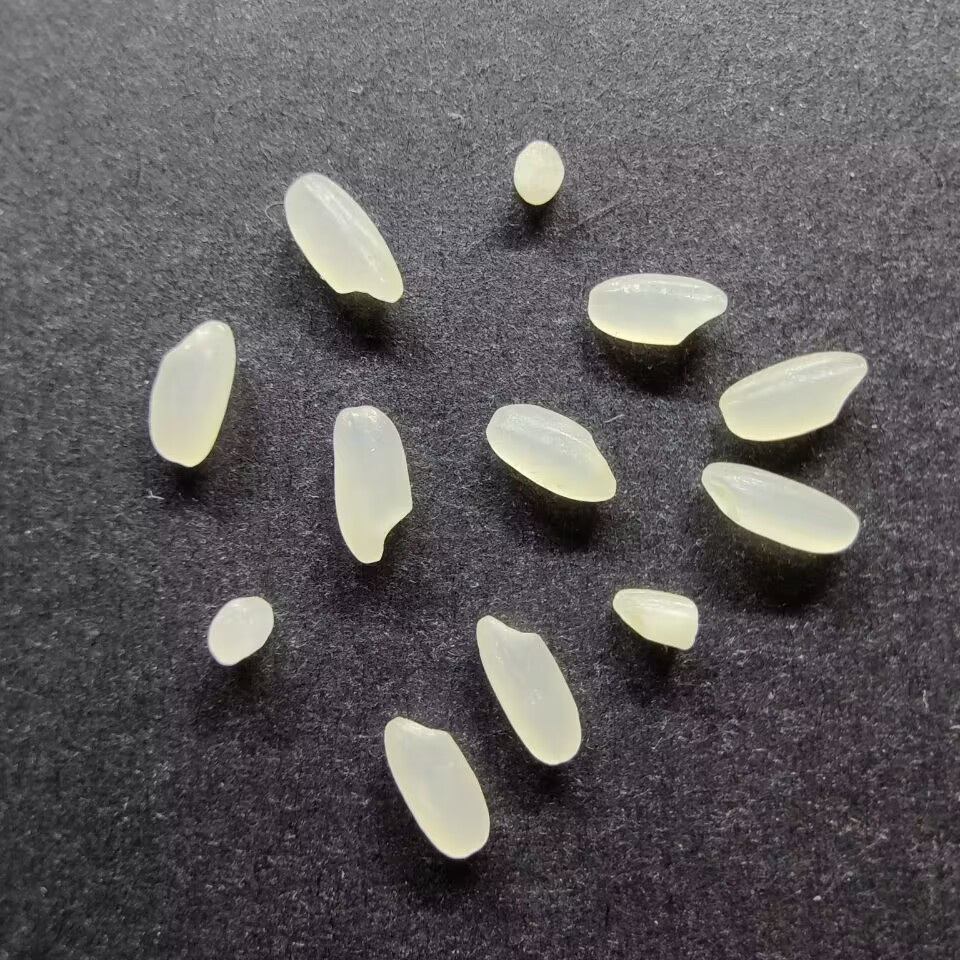broken: (612, 587, 699, 651), (206, 595, 277, 667), (511, 136, 568, 207)
rice: (475, 612, 584, 766), (281, 171, 405, 304), (381, 714, 492, 860), (699, 460, 860, 555), (717, 349, 871, 442), (483, 402, 617, 504), (330, 403, 414, 563), (147, 318, 236, 468), (586, 271, 730, 346)
